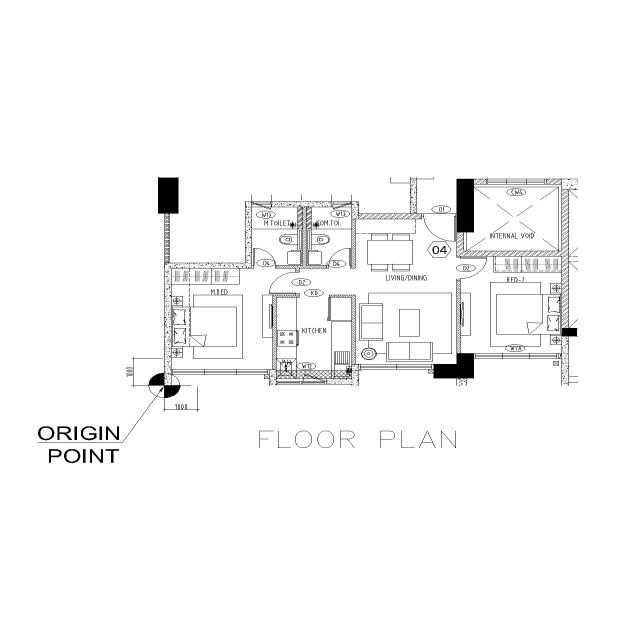Column: (432, 350, 476, 382), (455, 177, 476, 234), (157, 176, 180, 215)
Door: (420, 212, 458, 220), (456, 254, 462, 282), (325, 264, 352, 270), (295, 270, 300, 296), (253, 264, 277, 268)
Opening: (298, 293, 330, 298)
Window: (170, 368, 270, 376), (474, 352, 559, 360), (358, 363, 434, 371), (485, 178, 547, 186), (302, 380, 326, 386), (274, 380, 298, 386), (250, 200, 273, 206), (330, 200, 352, 206)
